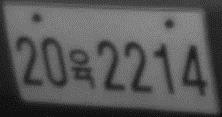0: (39, 35, 69, 88)
1: (149, 39, 180, 96)
2: (96, 38, 127, 92), (123, 40, 154, 93), (13, 35, 43, 86)
4: (180, 44, 211, 98)
육: (68, 47, 97, 90)
